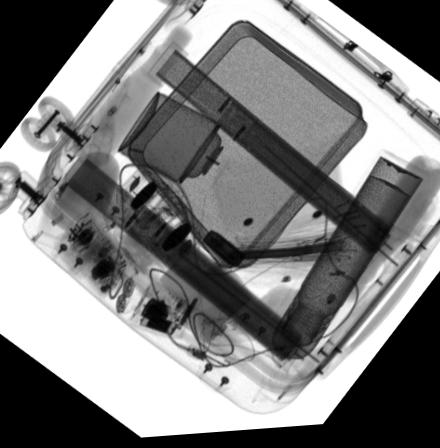Lighter: (201, 231, 246, 269)
Sprayer: (118, 92, 242, 198)
